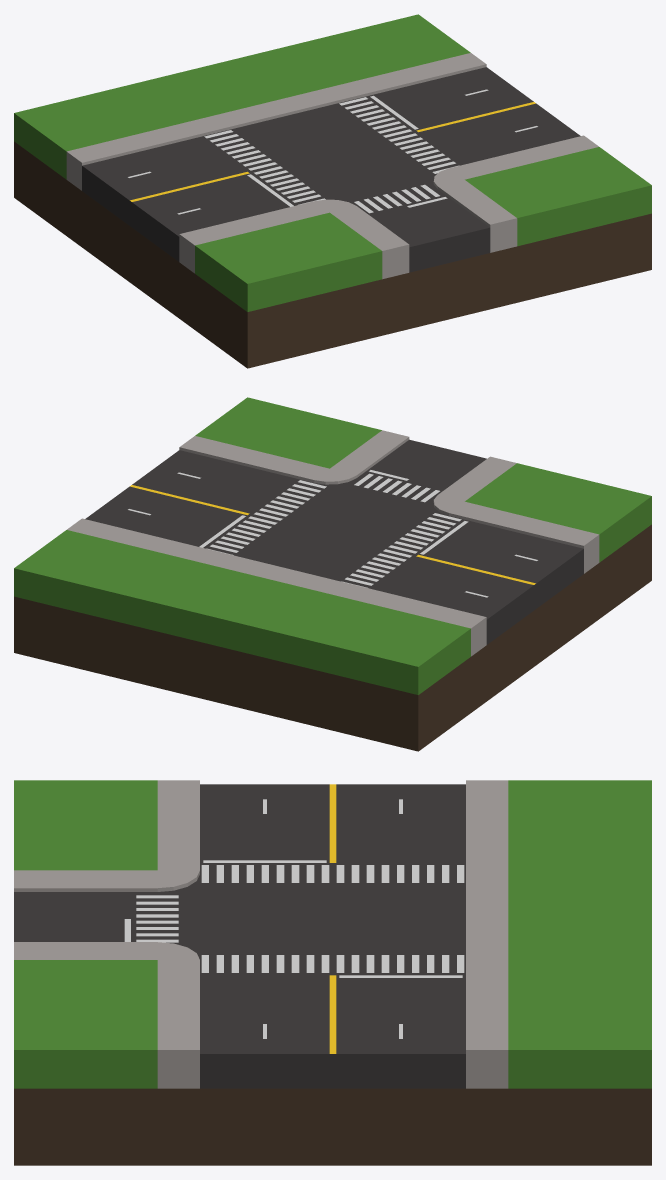
The model's file is tile-road-mainroad-intersection-t.glb.
3 renders of one model, top to bottom at view 1: azimuth 30°, elevation 25°; view 2: azimuth 150°, elevation 25°; view 3: azimuth 270°, elevation 25°, orthographic. The views are drawn at different scales.
Parts seen in each view (by area): view 1: tile-road-mainroad-intersection-t; view 2: tile-road-mainroad-intersection-t; view 3: tile-road-mainroad-intersection-t.
Part boxes in pixels (x1,y1,x2,y2): tile-road-mainroad-intersection-t: [14, 14, 651, 368]; tile-road-mainroad-intersection-t: [14, 397, 651, 751]; tile-road-mainroad-intersection-t: [14, 780, 651, 1165].
Bounding box in the file's own units: 30 × 6 × 30.
1 material, 1 textured.
